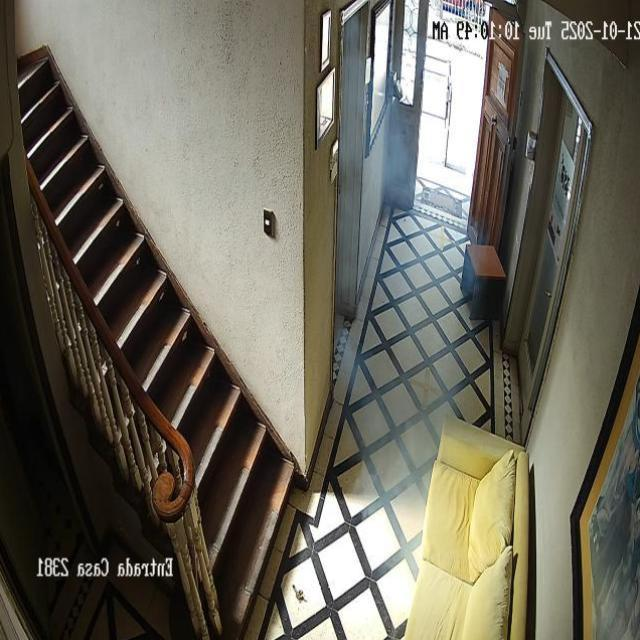fire: (334, 9, 489, 600)
